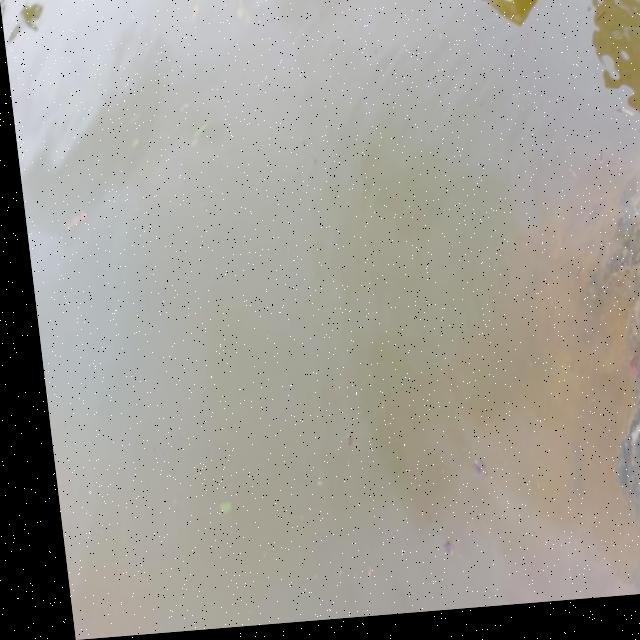paper: (442, 0, 572, 20)
